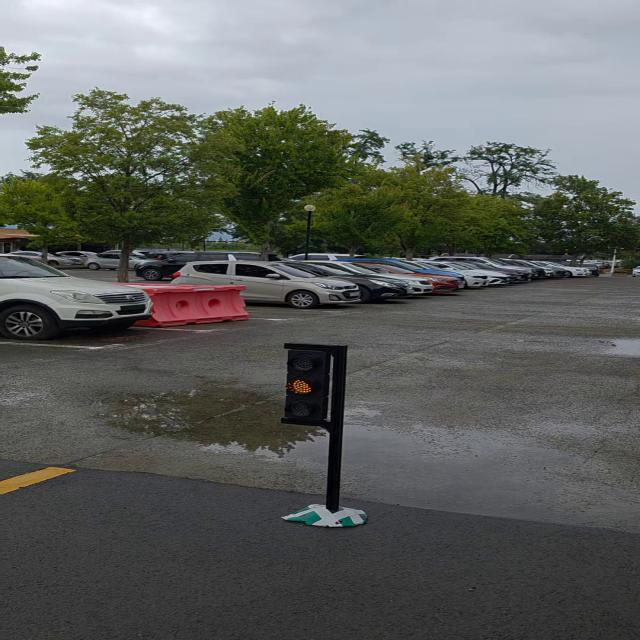yellow: (282, 341, 350, 427)
